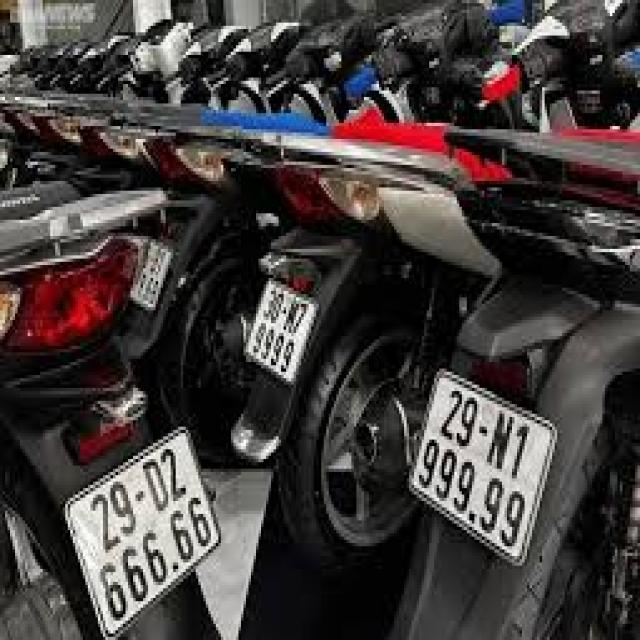bien_so: (399, 347, 567, 568), (61, 437, 234, 637), (236, 273, 338, 416)
